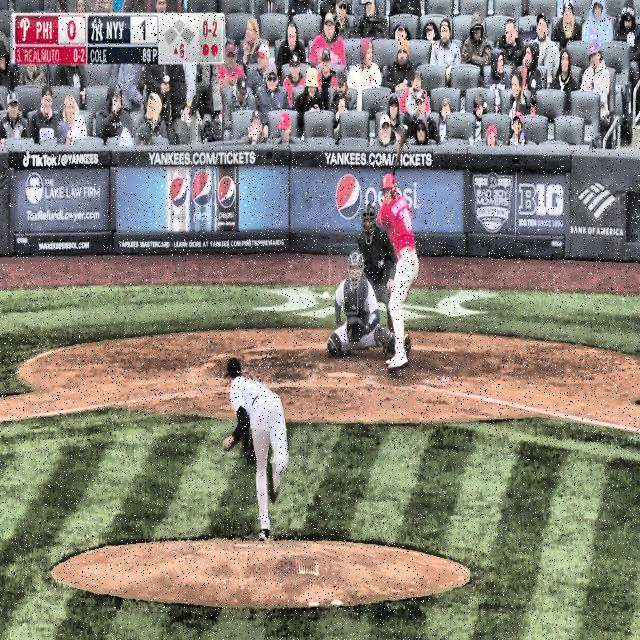baseball: (322, 292, 329, 302)
